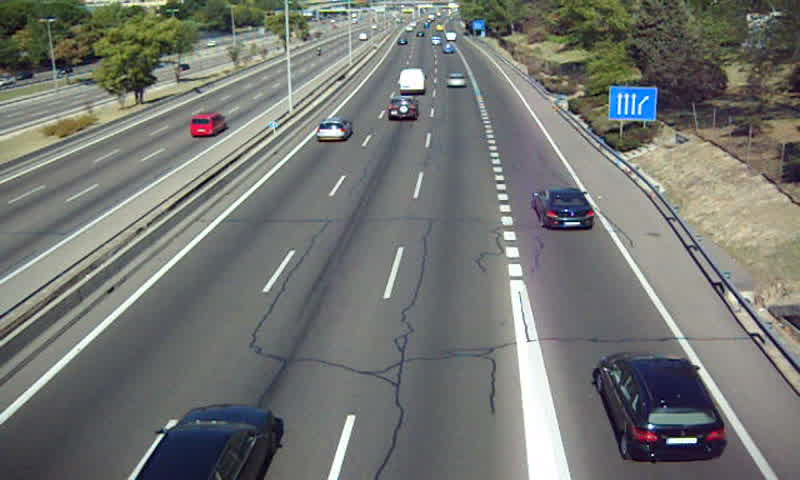car: (596, 353, 725, 460), (136, 405, 274, 480), (533, 188, 594, 228), (315, 117, 351, 142), (387, 94, 419, 120), (445, 72, 468, 89)
van: (398, 69, 426, 94)
